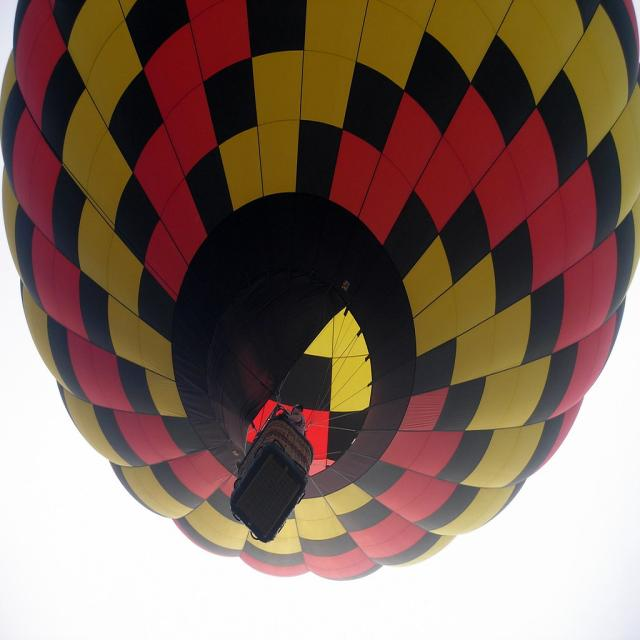balloon: (2, 1, 640, 582)
